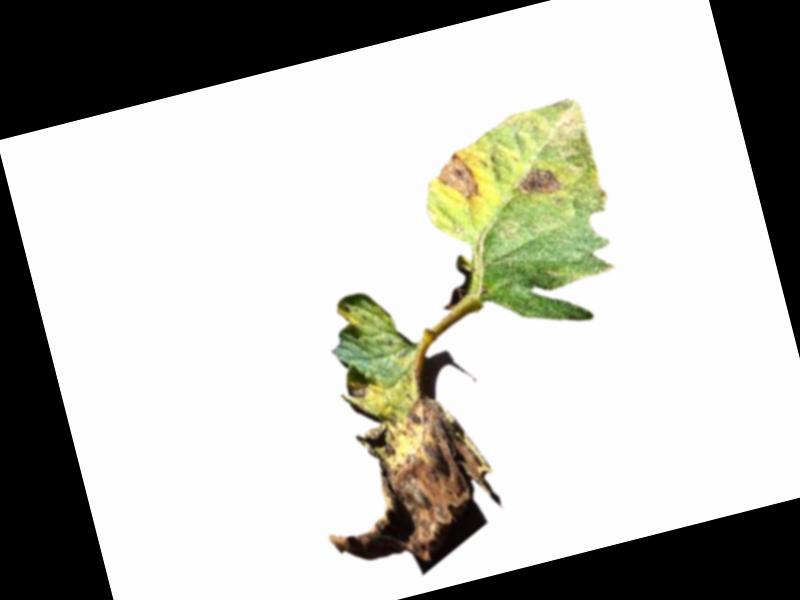Early_blight: (288, 351, 512, 585), (431, 150, 480, 205), (512, 162, 561, 202)
